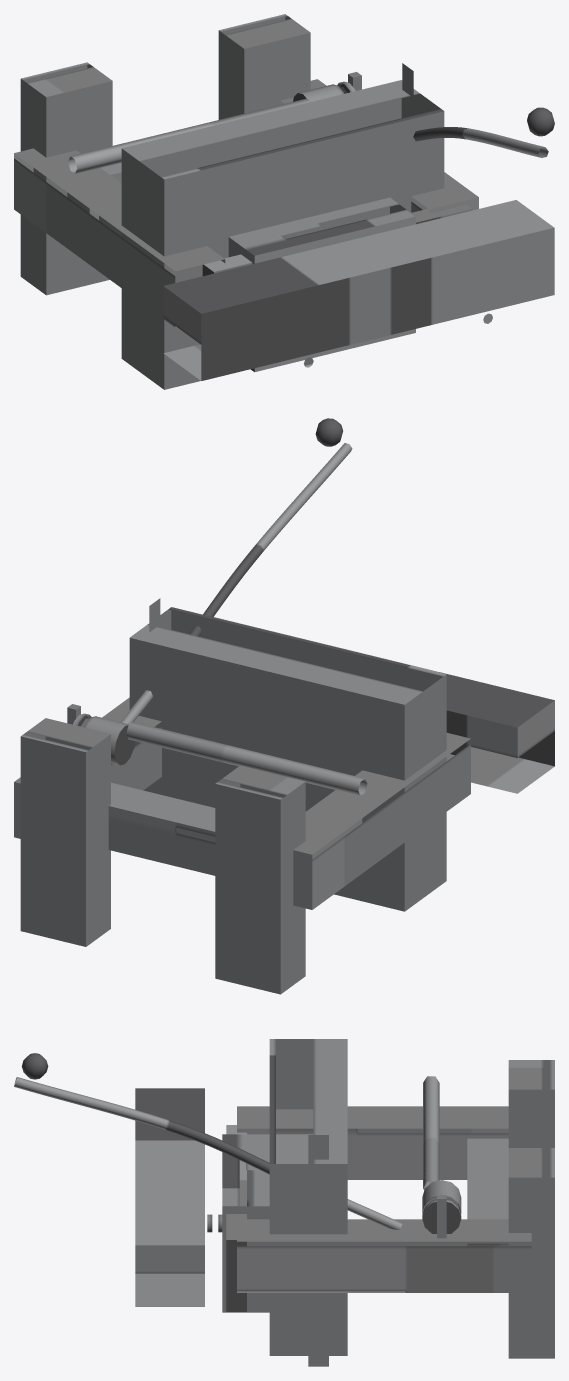
3 renders of one model, top to bottom at view 1: azimuth 30°, elevation 25°; view 2: azimuth 150°, elevation 25°; view 3: azimuth 270°, elevation 25°, orthographic. The views are drawn at different scales.
Bounding box in the file's own units: 1.06 × 0.953 × 1.55.
